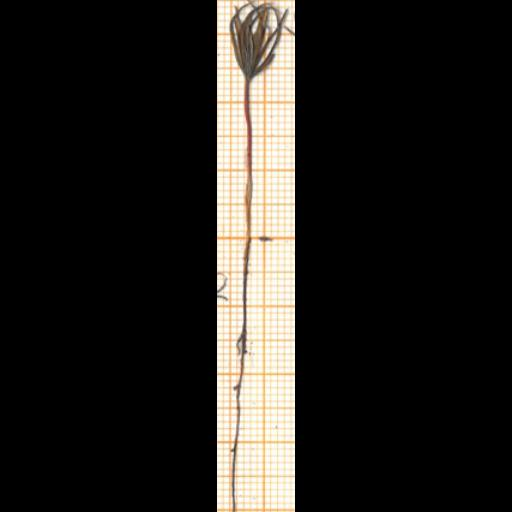flowerPinus: (229, 1, 287, 83)
rootPinus: (231, 239, 251, 511)
stemPinus: (244, 80, 251, 240)
